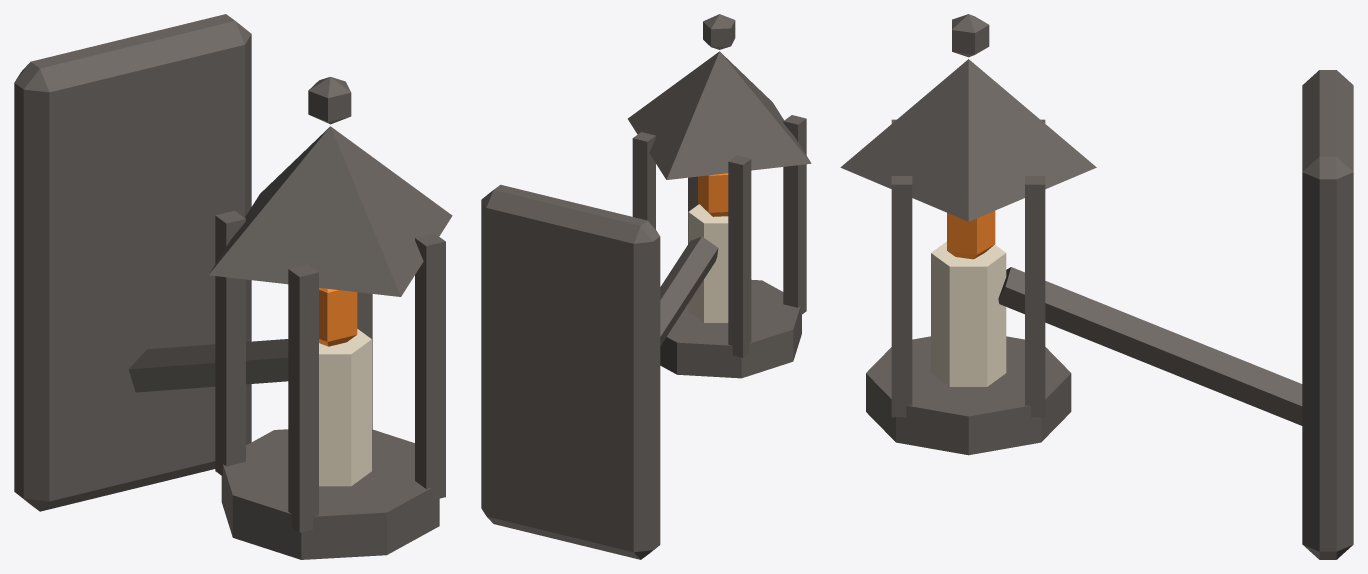
Rendered from PR_Tier_DemirAplik.fbx.
3 renders of one model, left to right at view 1: azimuth 30°, elevation 25°; view 2: azimuth 150°, elevation 25°; view 3: azimuth 270°, elevation 25°, orthographic. The views are drawn at different scales.
Visible parts, largest first — view 1: PR_Tier_DemirAplik; view 2: PR_Tier_DemirAplik; view 3: PR_Tier_DemirAplik.
Boxes of the visible parts, x1,y1,x2,y2 form: PR_Tier_DemirAplik: (14,14,452,559); PR_Tier_DemirAplik: (481,14,811,559); PR_Tier_DemirAplik: (840,14,1353,559).
Size of the model in its own units: 0.15 by 0.324 by 0.3.
